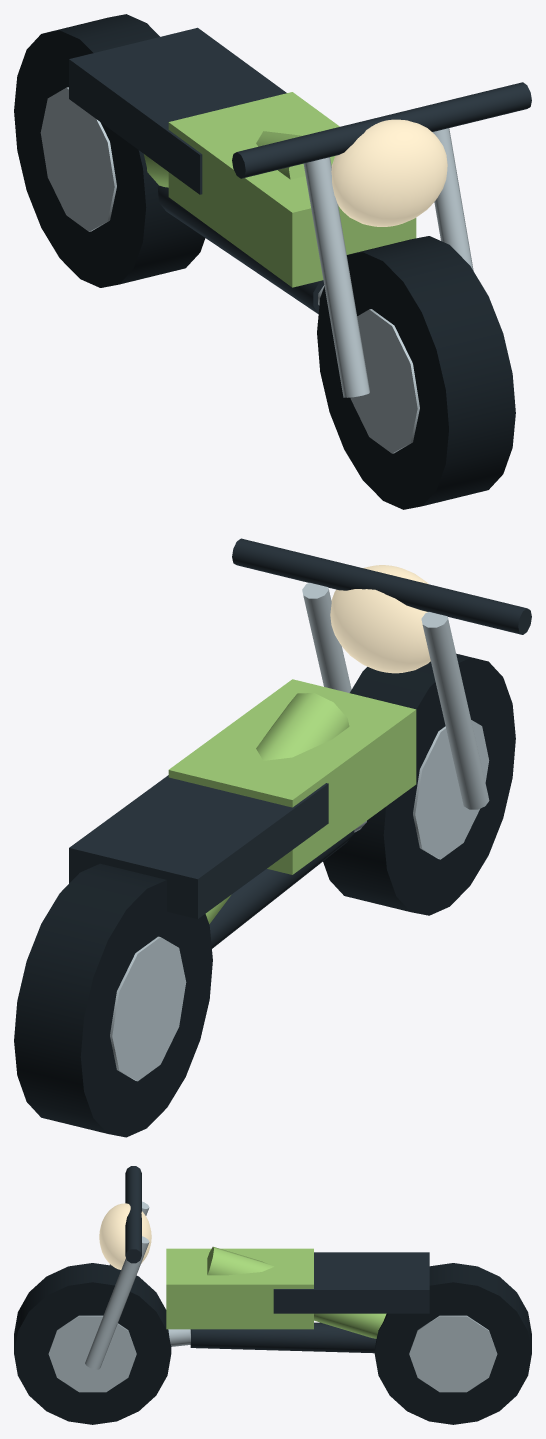
Rendered from bike.glb.
The picture shows the model from 3 angles, top to bottom: view 1: azimuth 30°, elevation 25°; view 2: azimuth 150°, elevation 25°; view 3: azimuth 270°, elevation 25°; orthographic projection. The views are drawn at different scales.
Visible parts, largest first — view 1: bike, wheel.1.spin, wheel.0.spin; view 2: bike, wheel.0.spin, wheel.1.spin; view 3: bike, wheel.1.spin, wheel.0.spin.
Boxes of the visible parts, bbox=[...] form: bike: bbox=[69, 27, 531, 397]; wheel.1.spin: bbox=[317, 236, 515, 509]; wheel.0.spin: bbox=[14, 14, 205, 287]; bike: bbox=[69, 538, 531, 948]; wheel.0.spin: bbox=[14, 863, 212, 1137]; wheel.1.spin: bbox=[323, 653, 515, 915]; bike: bbox=[85, 1166, 429, 1369]; wheel.1.spin: bbox=[14, 1263, 171, 1424]; wheel.0.spin: bbox=[374, 1263, 531, 1424].
Size of the model in its own units: 1.2 by 1.4 by 3.16.
